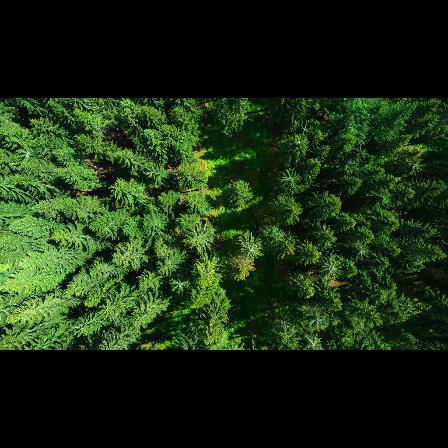Sick: (235, 235, 262, 262), (317, 256, 345, 282), (275, 169, 304, 192), (346, 238, 375, 261), (299, 328, 325, 350)
